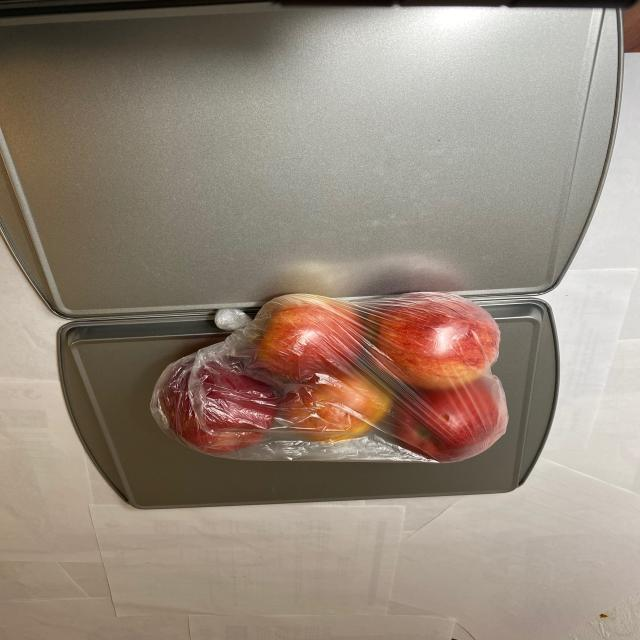apple: (148, 295, 508, 465)
